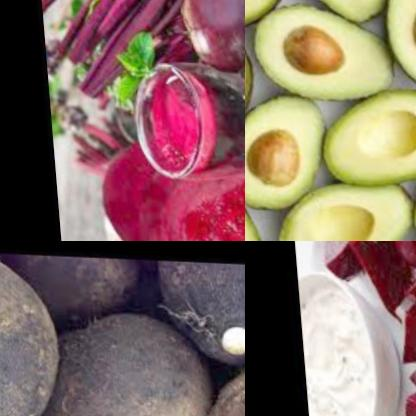avocado: (255, 0, 399, 106), (245, 75, 340, 215), (312, 86, 416, 179), (269, 182, 416, 241), (379, 0, 416, 87), (271, 0, 393, 22), (245, 21, 261, 153), (245, 157, 269, 241)
beet: (89, 133, 245, 241), (129, 75, 241, 159), (303, 241, 416, 309), (171, 0, 245, 66)
redka: (27, 305, 215, 416), (0, 252, 65, 416), (156, 259, 245, 372), (17, 255, 143, 328)
